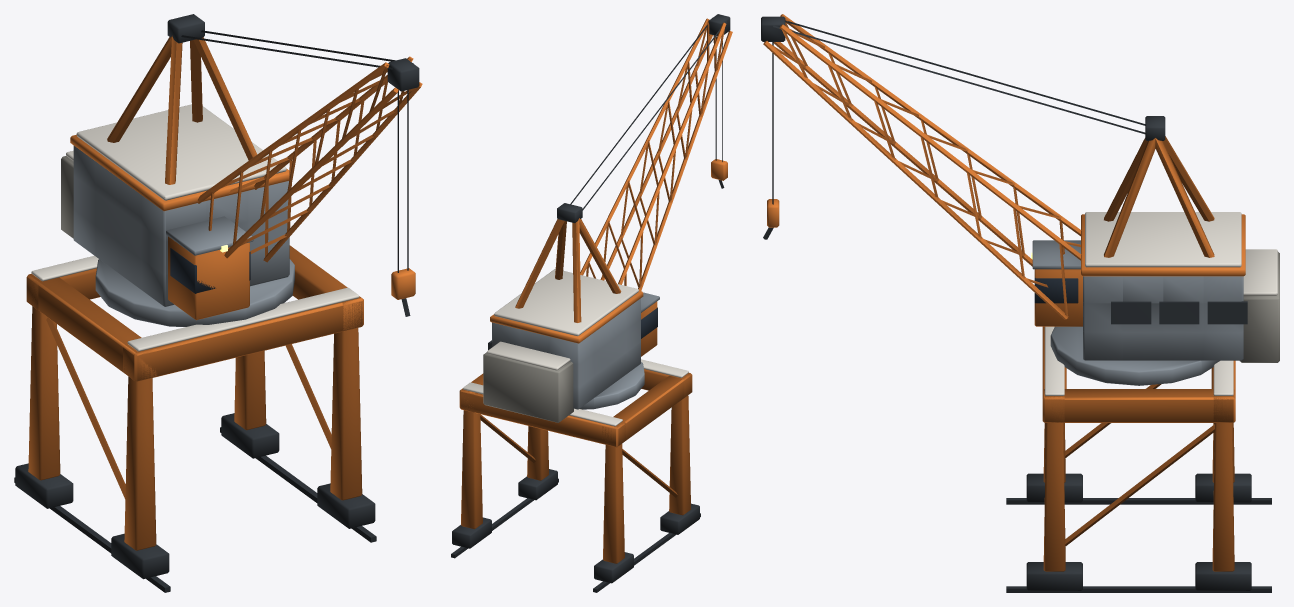
Rendered from crane.glb.
The picture shows the model from 3 angles, left to right: view 1: azimuth 30°, elevation 25°; view 2: azimuth 150°, elevation 25°; view 3: azimuth 270°, elevation 25°; orthographic projection. The views are drawn at different scales.
Parts seen in each view (by area): view 1: crane_signal_orange, crane_zinc, crane_snow, crane_iron, crane_concrete, crane_glass; view 2: crane_signal_orange, crane_zinc, crane_snow, crane_iron, crane_concrete; view 3: crane_signal_orange, crane_zinc, crane_iron, crane_snow, crane_concrete, crane_glass.
Part boxes in pixels (bbox=[...]): crane_signal_orange: bbox=[26, 36, 422, 550]; crane_zinc: bbox=[73, 145, 294, 326]; crane_snow: bbox=[31, 104, 359, 351]; crane_iron: bbox=[14, 14, 419, 592]; crane_concrete: bbox=[61, 156, 73, 238]; crane_glass: bbox=[170, 248, 250, 293]; crane_signal_orange: bbox=[459, 18, 732, 563]; crane_zinc: bbox=[492, 292, 659, 409]; crane_snow: bbox=[463, 269, 688, 426]; crane_iron: bbox=[451, 14, 730, 592]; crane_concrete: bbox=[483, 352, 573, 422]; crane_signal_orange: bbox=[763, 14, 1245, 571]; crane_zinc: bbox=[1032, 240, 1243, 385]; crane_iron: bbox=[761, 16, 1271, 592]; crane_snow: bbox=[1044, 212, 1277, 395]; crane_concrete: bbox=[1240, 252, 1279, 362]; crane_glass: bbox=[1034, 278, 1078, 303].
Size of the model in its own units: 5.9 by 14.5 by 12.9.
